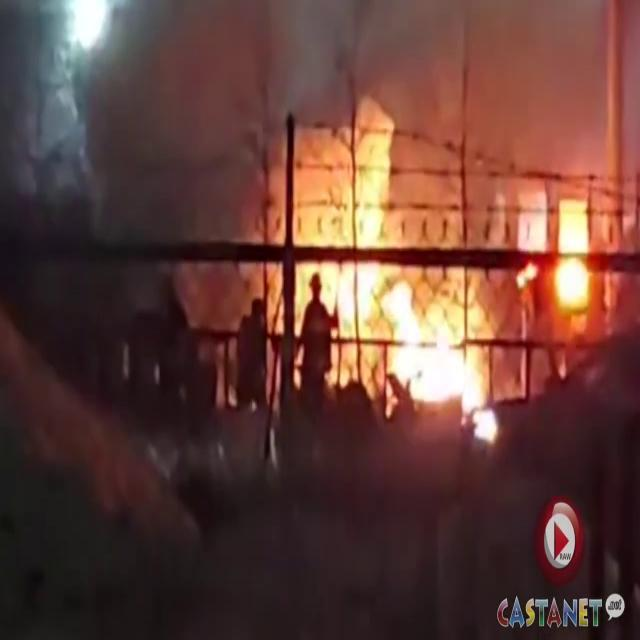Fire: (277, 115, 508, 438), (532, 199, 616, 341)
Smoke: (111, 0, 635, 210)
